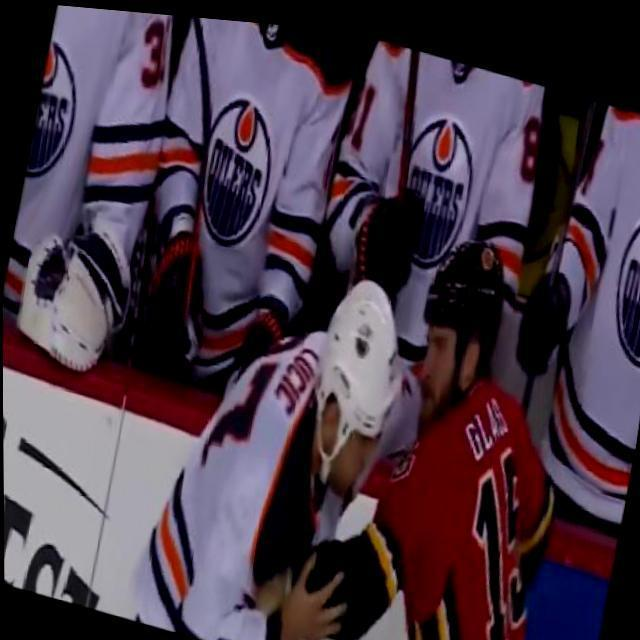fight: (157, 155, 610, 640)
